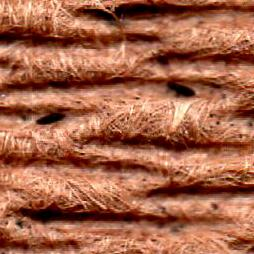egg: (168, 82, 194, 95), (37, 113, 64, 123)
